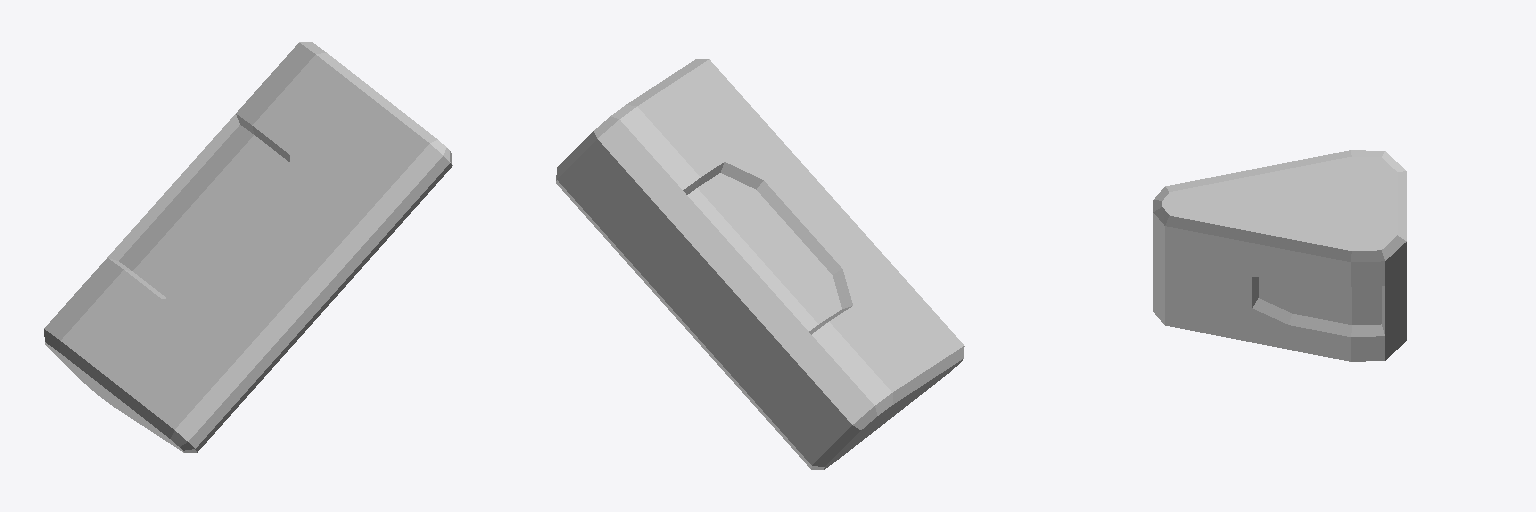
Rendered from Prop_2.obj.
3 views of the same model, side by side, from view 1: azimuth 30°, elevation 25°; view 2: azimuth 150°, elevation 25°; view 3: azimuth 270°, elevation 25° (orthographic).
Parts seen in each view (by area): view 1: SM_SampleBuilding3.001; view 2: SM_SampleBuilding3.001; view 3: SM_SampleBuilding3.001.
Part boxes in pixels (x1,y1,x2,y2): SM_SampleBuilding3.001: (44,42,452,452); SM_SampleBuilding3.001: (556,59,964,469); SM_SampleBuilding3.001: (1153,150,1406,361).
Size of the model in its own units: 1.38 by 1.25 by 0.9432.